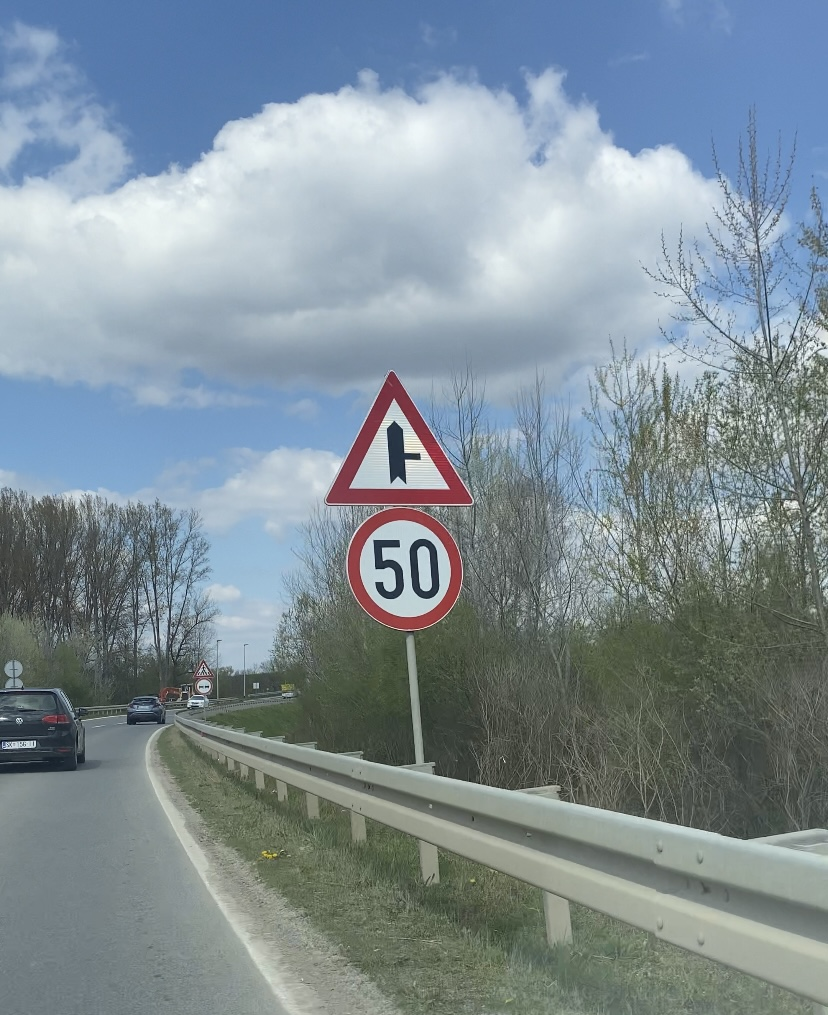Ograničenje brzine 50: (347, 508, 464, 631)
Približavanje pješačkom prijelazu: (193, 660, 215, 678)
Zabrana pretjecanja: (195, 678, 213, 695)
